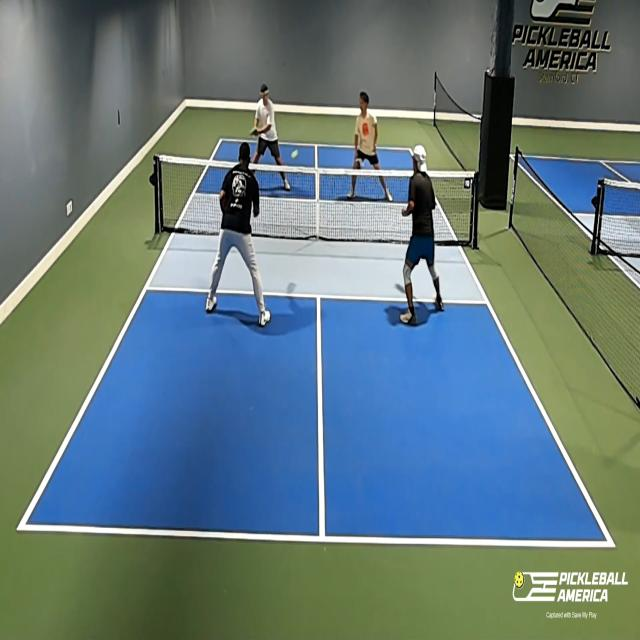Pickleball: (290, 147, 299, 163)
